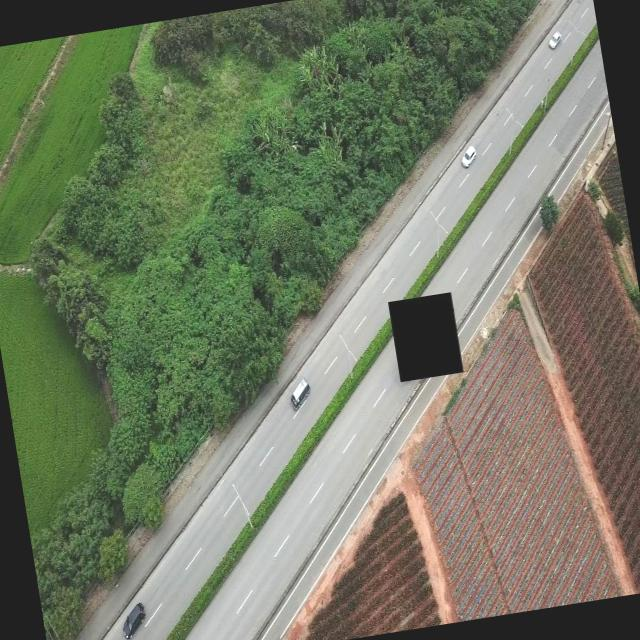car: (118, 600, 148, 640), (286, 374, 312, 410), (458, 144, 478, 167), (547, 29, 563, 49)
